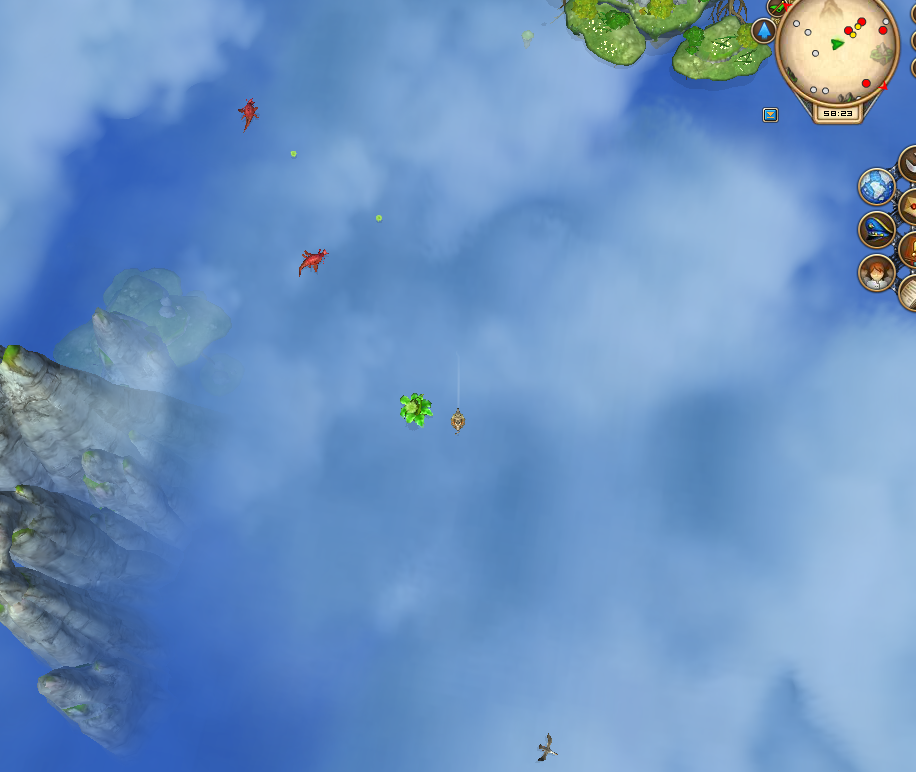dandelion-full: (395, 388, 438, 432)
fluff: (287, 147, 300, 159), (374, 213, 385, 226)
